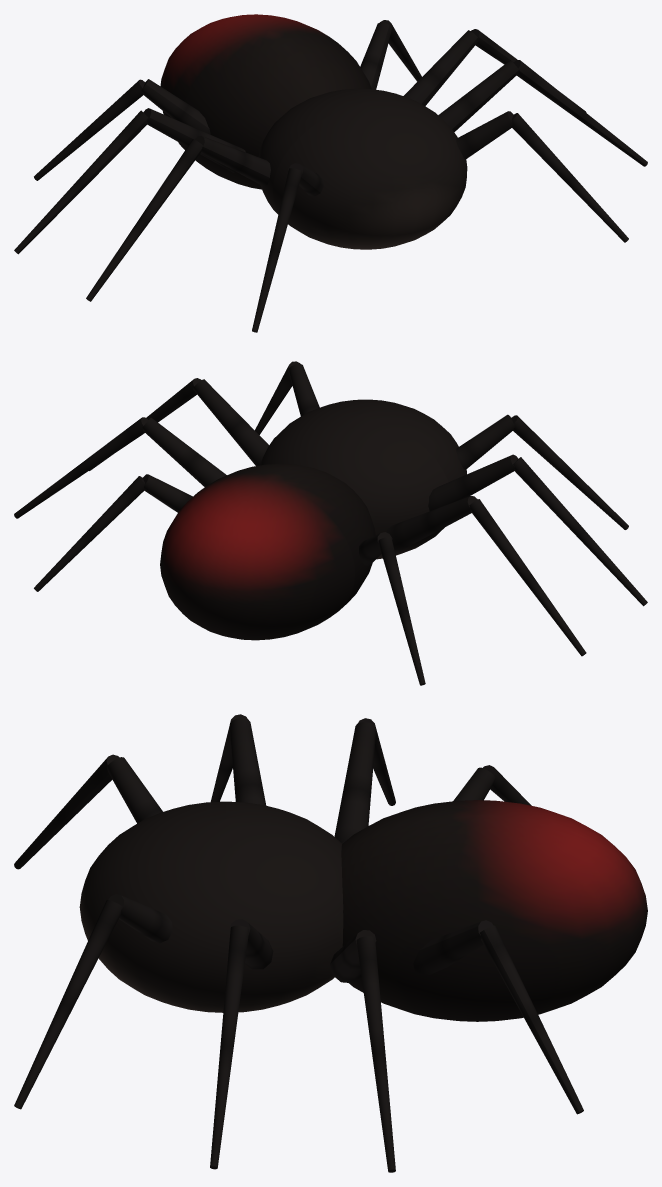
Rendered from spider.glb.
The picture shows the model from 3 angles, top to bottom: view 1: azimuth 30°, elevation 25°; view 2: azimuth 150°, elevation 25°; view 3: azimuth 270°, elevation 25°; orthographic projection. The views are drawn at different scales.
Visible parts, largest first — view 1: carapace, abdomen, tibia1L, tibia2L, femur1R, tibia0R, tibia0L, femur2R, tibia1R, femur1L, tibia3L, femur3L (+6 smaller); view 2: abdomen, carapace, tibia1L, tibia2L, femur1R, femur2L, femur1L, femur2R, tibia2R, tibia0L, tibia3R, tibia3L (+6 smaller); view 3: abdomen, carapace, tibia1R, tibia2R, tibia0R, femur2L, tibia3R, femur1L, femur3R, tibia0L, femur0L, femur0R (+6 smaller).
Part boxes in pixels (bbox=[...]): carapace: bbox=[258, 88, 467, 249]; abdomen: bbox=[160, 14, 371, 189]; tibia1L: bbox=[86, 139, 202, 301]; tibia2L: bbox=[14, 110, 148, 254]; femur1R: bbox=[438, 60, 519, 131]; tibia0R: bbox=[511, 113, 628, 242]; tibia0L: bbox=[252, 168, 302, 332]; femur2R: bbox=[403, 30, 479, 106]; tibia1R: bbox=[513, 60, 647, 166]; femur1L: bbox=[195, 135, 270, 186]; tibia3L: bbox=[34, 79, 144, 180]; femur3L: bbox=[141, 79, 210, 134]; abdomen: bbox=[160, 463, 375, 640]; carapace: bbox=[260, 399, 466, 559]; tibia1L: bbox=[513, 457, 647, 606]; tibia2L: bbox=[469, 499, 586, 656]; femur1R: bbox=[193, 379, 268, 465]; femur2L: bbox=[386, 496, 477, 550]; femur1L: bbox=[428, 454, 518, 510]; femur2R: bbox=[142, 417, 226, 486]; tibia2R: bbox=[14, 417, 148, 518]; tibia0L: bbox=[511, 415, 628, 529]; tibia3R: bbox=[34, 476, 144, 591]; tibia3L: bbox=[378, 537, 425, 685]; abdomen: bbox=[341, 800, 647, 1021]; carapace: bbox=[79, 801, 343, 1012]; tibia1R: bbox=[210, 925, 249, 1169]; tibia2R: bbox=[356, 936, 395, 1172]; tibia0R: bbox=[14, 900, 122, 1109]; femur2L: bbox=[334, 722, 376, 843]; tibia3R: bbox=[480, 925, 583, 1114]; femur1L: bbox=[229, 718, 266, 805]; femur3R: bbox=[413, 920, 493, 974]; tibia0L: bbox=[14, 754, 119, 869]; femur0L: bbox=[107, 757, 162, 823]; femur0R: bbox=[108, 894, 172, 943].
Bounding box in the file's own units: 1.08 × 0.26 × 0.781.
